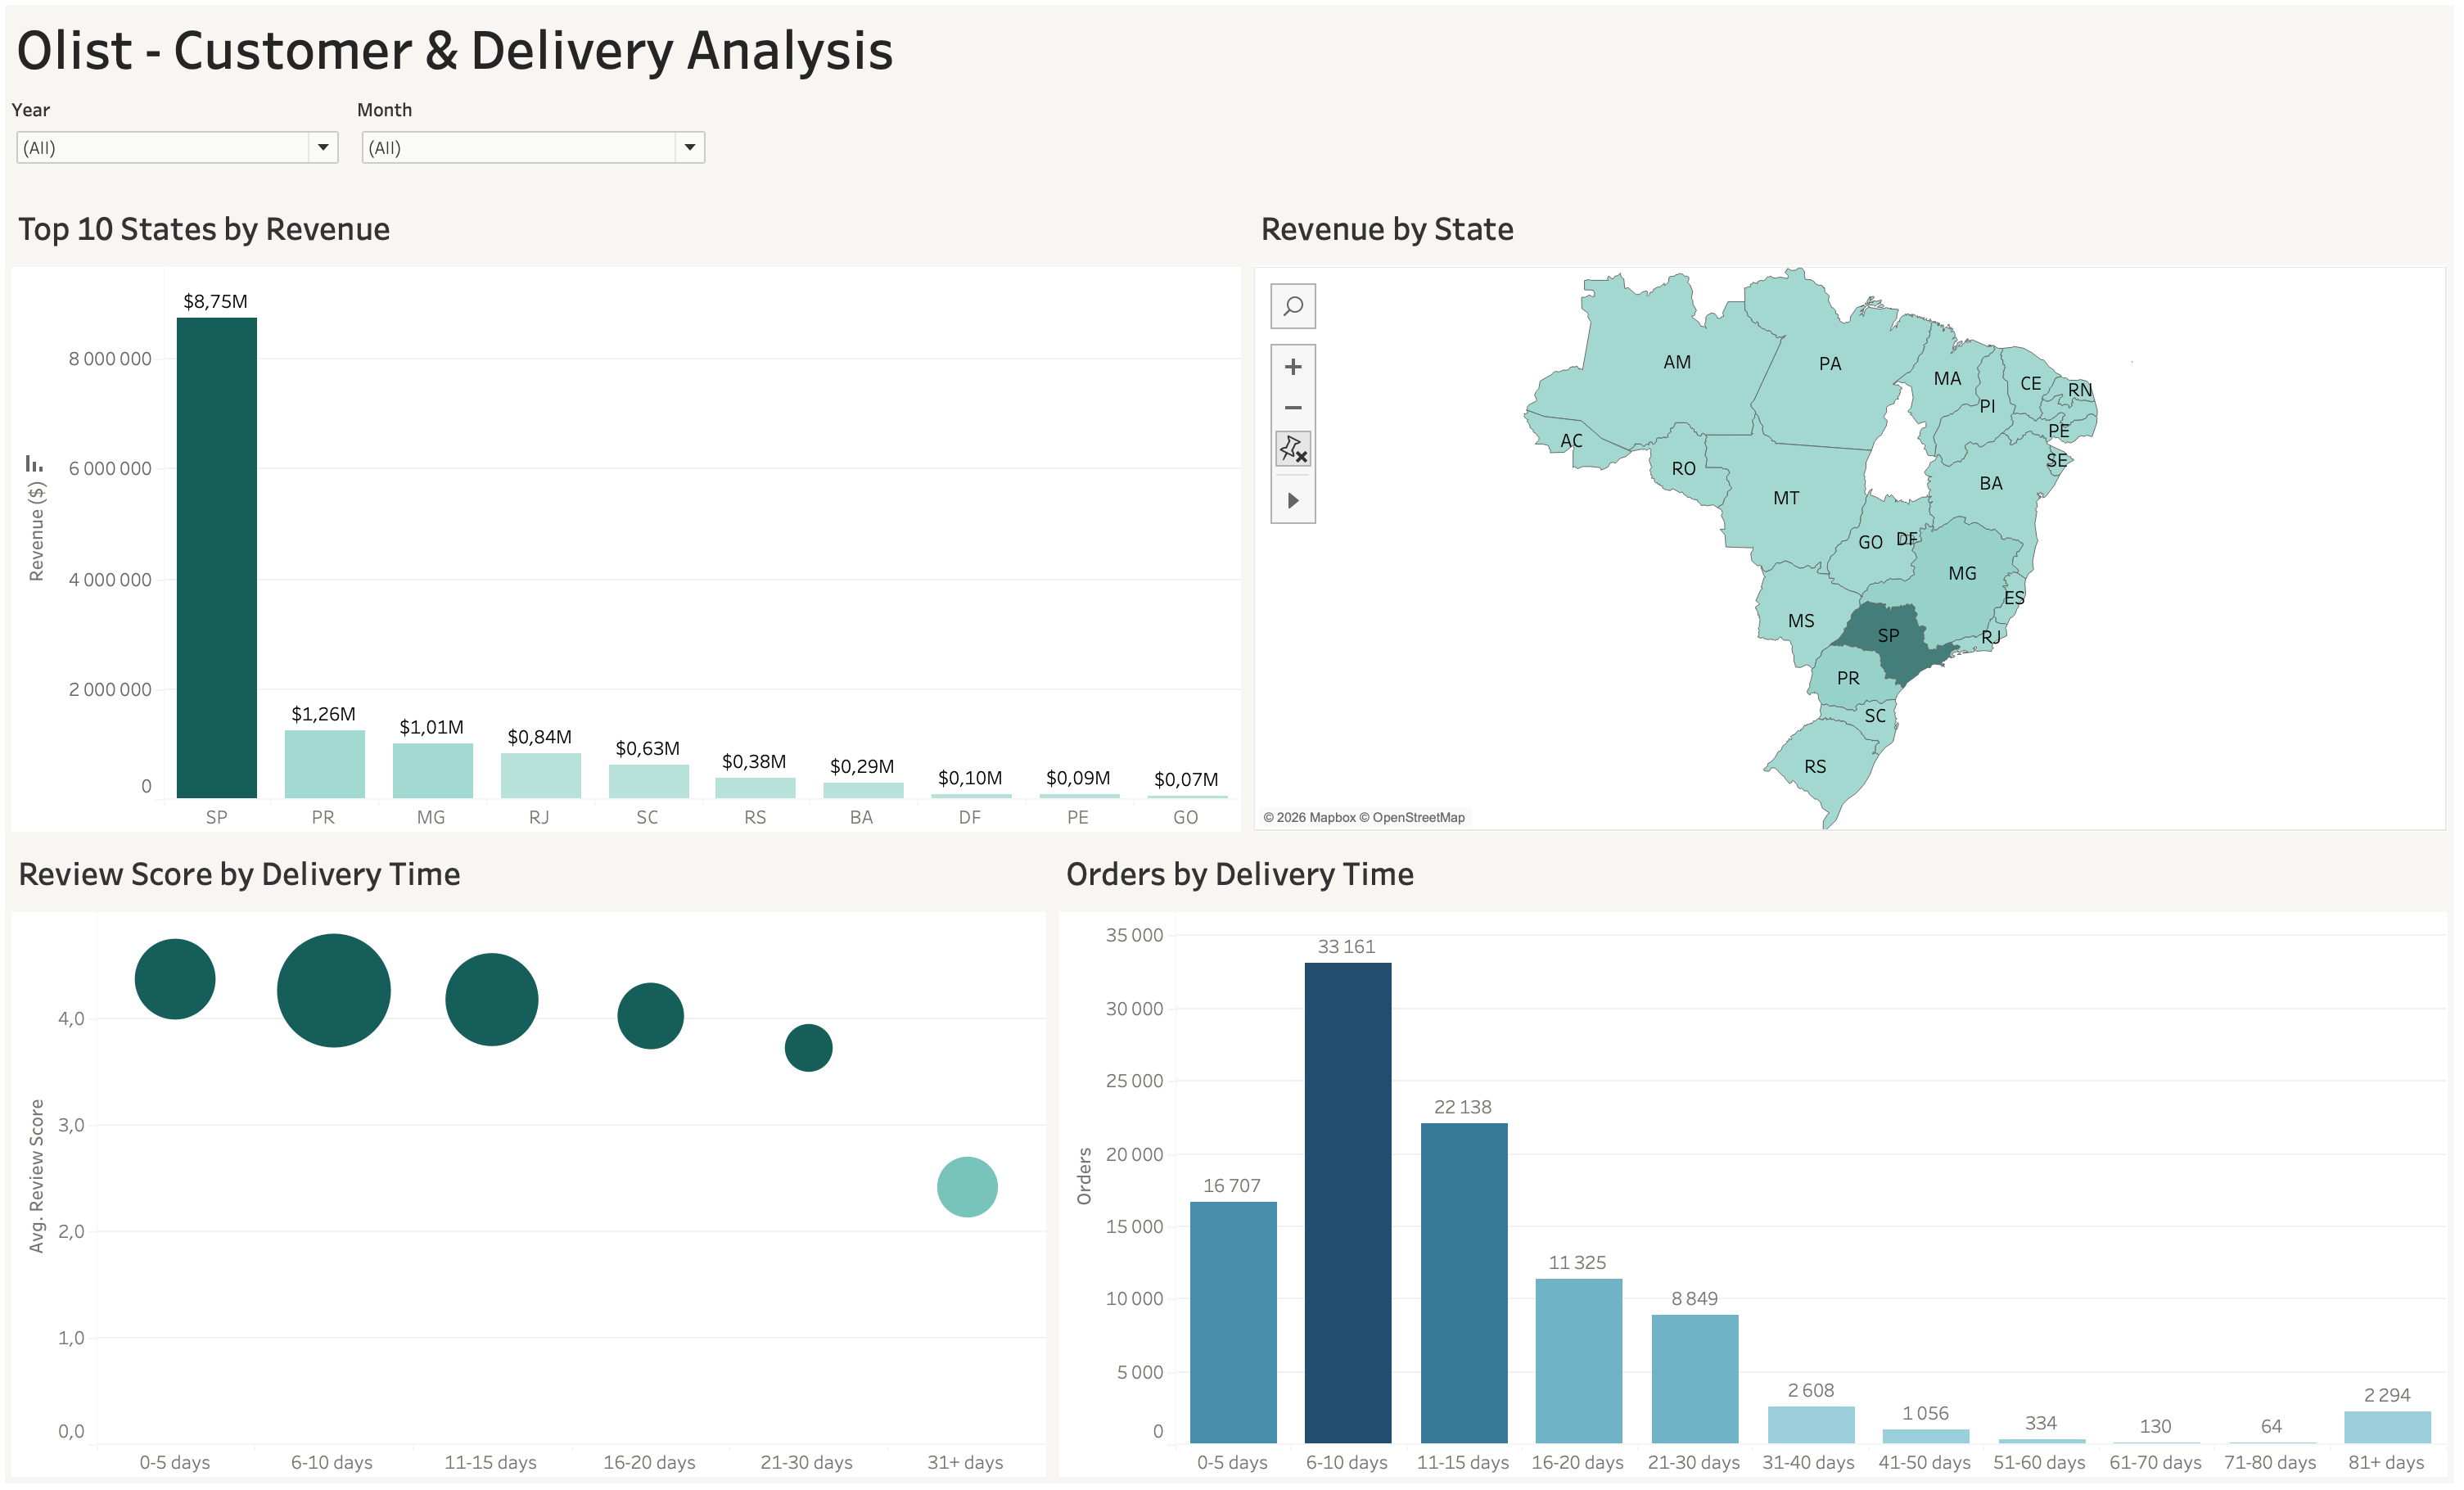

The page's visual inventory and layout, read from the dashboard file:
{"tool":"tableau","page":{"name":"Customer & Delivery","canvas":[1000,1000],"units":"permille","ordinal":0},"visuals":[{"type":"title","box":[5.4,9.7,989.2,62.7]},{"type":"filter","title":"Top 10 States by Revenue","param":"[federated.1svawzv15lw1871e6vdpe0euouzc].[yr:order_purchase_timestamp:ok]","box":[5.4,72.4,142,76]},{"type":"filter","title":"Top 10 States by Revenue","param":"[federated.1svawzv15lw1871e6vdpe0euouzc].[mn:order_purchase_timestamp:ok]","box":[147.4,72.4,150.7,76]},{"type":"worksheet","title":"Top 10 States by Revenue","mark":"Automatic","rows":["Calculation_0382609198833664"],"cols":["seller_state"],"box":[5.4,148.4,510.8,420.9]},{"type":"worksheet","title":"Revenue by State","mark":"Multipolygon","box":[516.1,148.4,478.5,420.9]},{"type":"worksheet","title":"Review Score by Delivery Time","mark":"Circle","rows":["avg_review_score"],"cols":["Calculation_0591310938390529"],"box":[5.4,569.3,423.1,421.1]},{"type":"worksheet","title":"Orders by Delivery Time","mark":"Bar","rows":["Calculation_0382609200959489"],"cols":["Calculation_0603199480778753"],"box":[428.5,569.3,566.1,421.1]}]}

Visuals, with their boxes on the dashboard's canvas, which has no fixed pixel size, in thousandths of its width and height (x1, y1, x2, y2). These are canvas units, not pixel positions in the 2464x1490 screenshot, which may show the page scaled, cropped or inside an application window:
title: crop(5, 10, 995, 72)
"Top 10 States by Revenue" filter: crop(5, 72, 147, 148)
"Top 10 States by Revenue" filter: crop(147, 72, 298, 148)
"Top 10 States by Revenue" worksheet: crop(5, 148, 516, 569)
"Revenue by State" worksheet (Multipolygon marks): crop(516, 148, 995, 569)
"Review Score by Delivery Time" worksheet (Circle marks): crop(5, 569, 428, 990)
"Orders by Delivery Time" worksheet (Bar marks): crop(428, 569, 995, 990)
